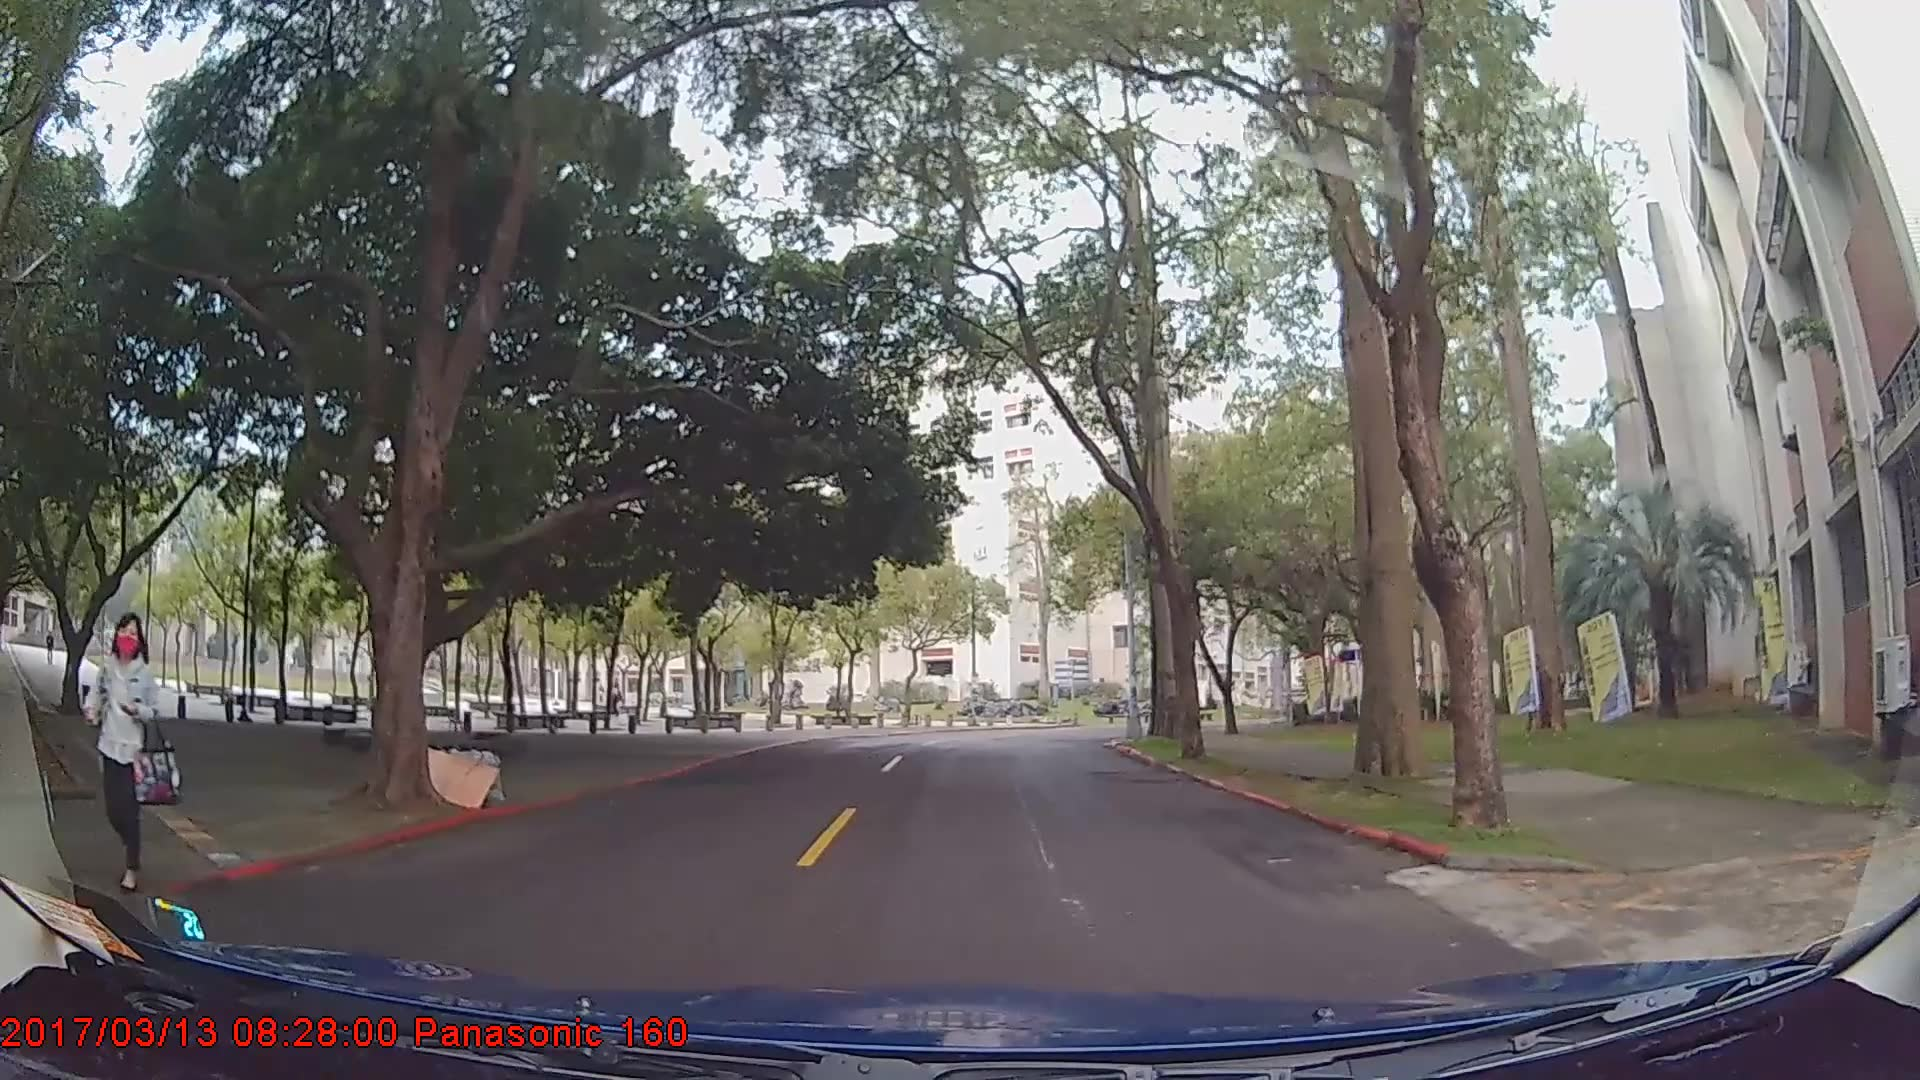pedestrian: (83, 607, 182, 890)
